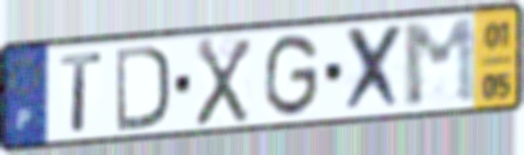D: (113, 42, 173, 134)
G: (261, 31, 322, 121)
M: (399, 15, 481, 112)
T: (58, 48, 106, 133)
X: (341, 20, 407, 118), (192, 36, 254, 129)
